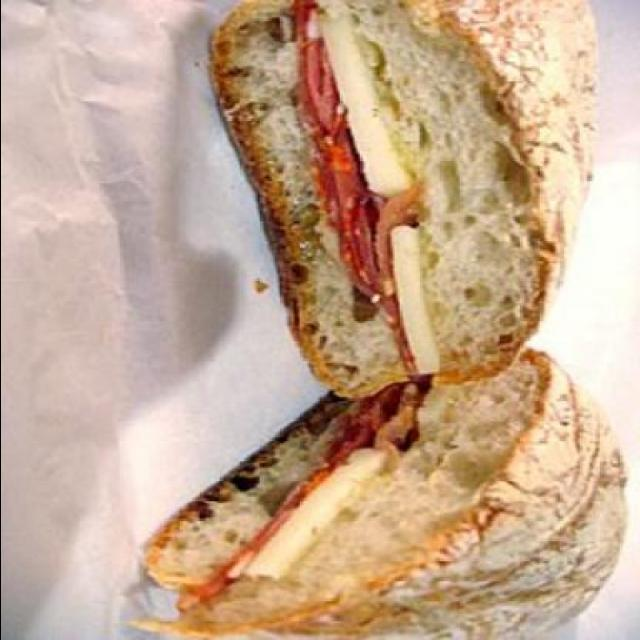Sandwich: (213, 0, 605, 397), (137, 344, 634, 638)
